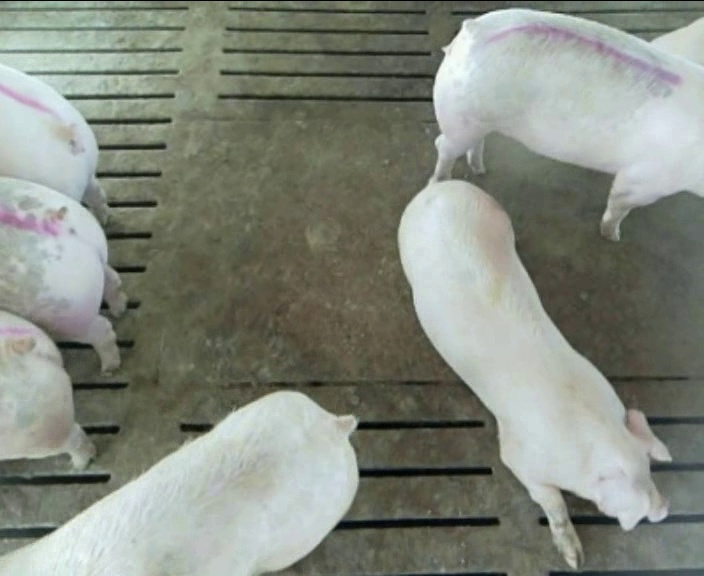pig: (398, 181, 669, 567), (0, 391, 357, 574), (431, 9, 703, 239)
